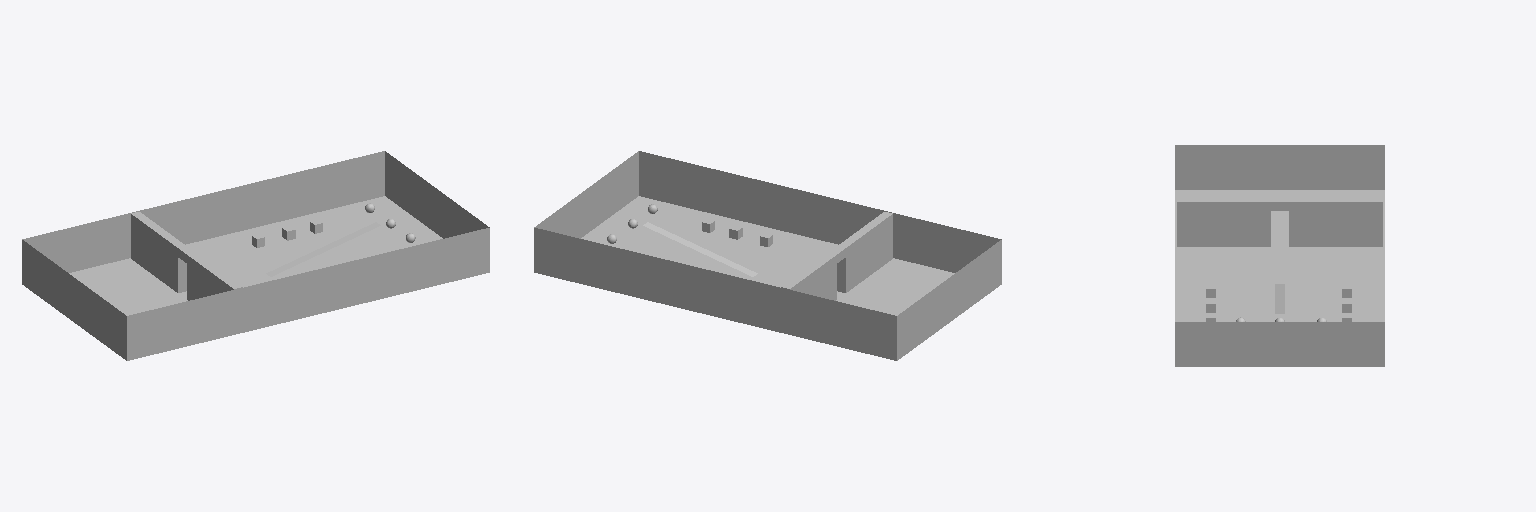
The model's file is test_map.obj.
3 renders of one model, left to right at view 1: azimuth 30°, elevation 25°; view 2: azimuth 150°, elevation 25°; view 3: azimuth 270°, elevation 25°, orthographic.
Parts seen in each view (by area): view 1: Plane.004, Plane.003, Plane.001, Plane, Plane.002, Cube.007_Cube.008, Cube.006_Cube.007, Plane.005; view 2: Plane.003, Plane.004, Plane.001, Plane, Plane.002, Cube.006_Cube.007, Cube.007_Cube.008, Plane.005; view 3: Plane.001, Plane, Plane.002, Cube.006_Cube.007, Cube.007_Cube.008.
Part boxes in pixels (bbox=[...]): Plane.004: bbox=[127, 228, 489, 360]; Plane.003: bbox=[22, 151, 384, 272]; Plane.001: bbox=[69, 196, 442, 315]; Plane: bbox=[22, 240, 126, 360]; Plane.002: bbox=[385, 151, 489, 238]; Cube.007_Cube.008: bbox=[131, 212, 186, 292]; Cube.006_Cube.007: bbox=[187, 253, 242, 300]; Plane.005: bbox=[266, 222, 380, 276]; Plane.003: bbox=[534, 228, 896, 360]; Plane.004: bbox=[639, 151, 1001, 272]; Plane.001: bbox=[581, 196, 954, 315]; Plane: bbox=[897, 240, 1001, 360]; Plane.002: bbox=[534, 151, 638, 238]; Cube.006_Cube.007: bbox=[837, 212, 892, 292]; Cube.007_Cube.008: bbox=[781, 253, 836, 300]; Plane.005: bbox=[643, 222, 757, 276]; Plane.001: bbox=[1175, 190, 1384, 321]; Plane: bbox=[1175, 145, 1384, 189]; Plane.002: bbox=[1175, 322, 1384, 366]; Cube.006_Cube.007: bbox=[1177, 197, 1270, 246]; Cube.007_Cube.008: bbox=[1289, 197, 1382, 246].
Size of the model in its own units: 84 by 10 by 42.